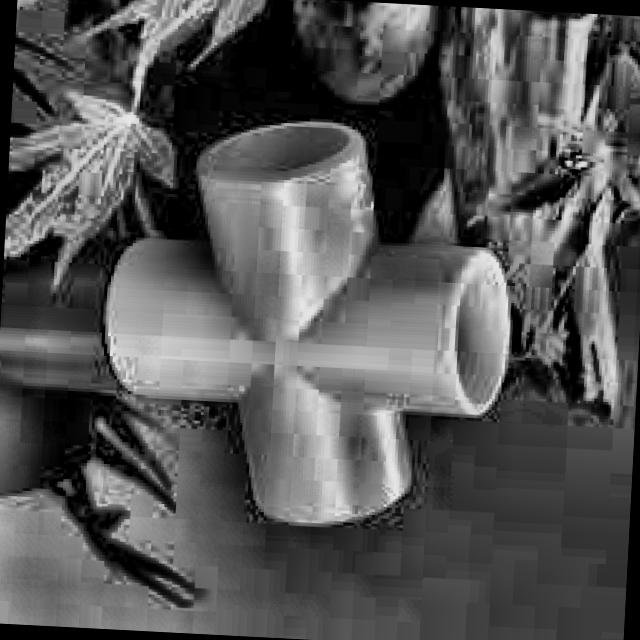EQUALCROSS: (97, 120, 508, 525)
